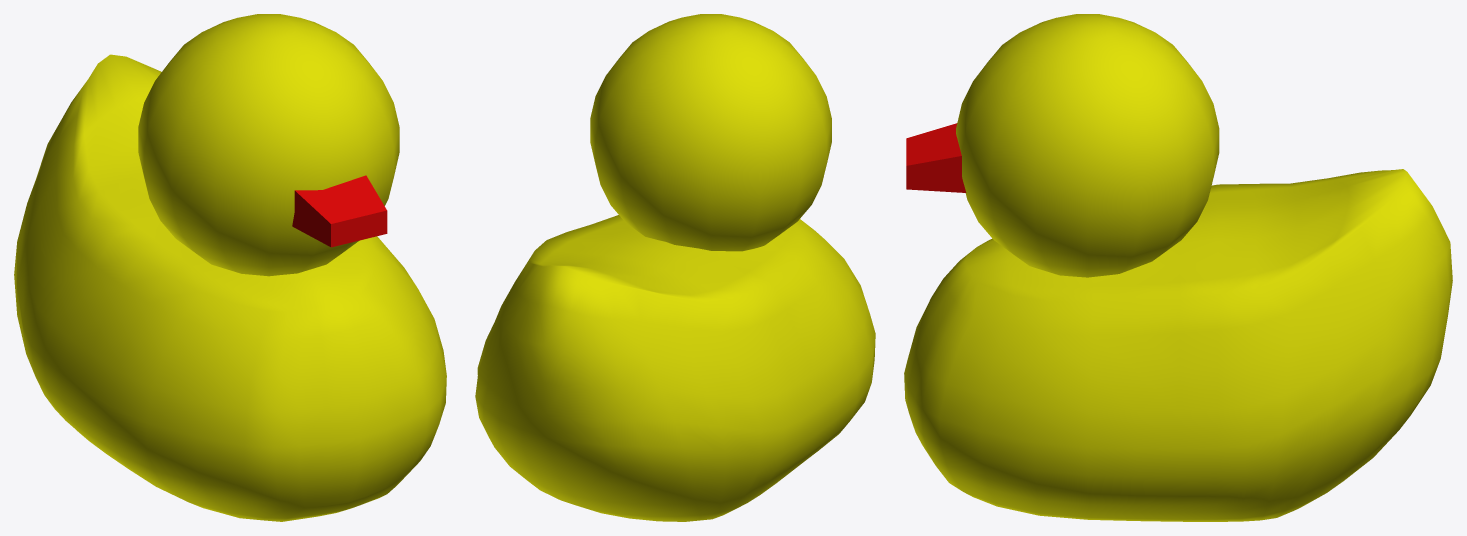
Rendered from SM_Duck.fbx.
The picture shows the model from 3 angles, left to right: view 1: azimuth 30°, elevation 25°; view 2: azimuth 150°, elevation 25°; view 3: azimuth 270°, elevation 25°; orthographic projection. The views are drawn at different scales.
Parts seen in each view (by area): view 1: SM_Rubberduck; view 2: SM_Rubberduck; view 3: SM_Rubberduck.
Boxes of the visible parts, bbox=[...] form: SM_Rubberduck: bbox=[14, 14, 446, 521]; SM_Rubberduck: bbox=[475, 14, 875, 521]; SM_Rubberduck: bbox=[904, 14, 1452, 521].
Bounding box in the file's own units: 34.48 × 45.29 × 50.13.
